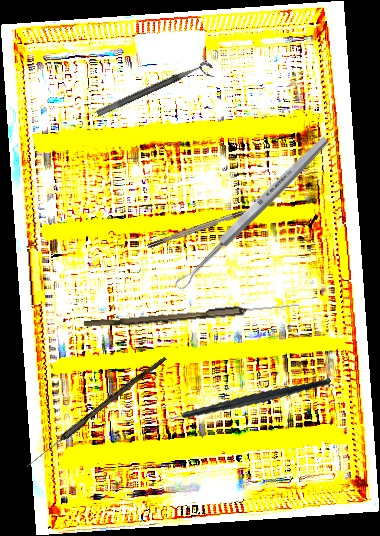Chopper: (154, 357, 331, 454)
Fixation Ring: (95, 59, 217, 127)
Hook Surgical: (146, 203, 264, 249)
Surgical Spoon: (172, 133, 332, 293), (24, 353, 167, 471), (84, 298, 299, 333)
